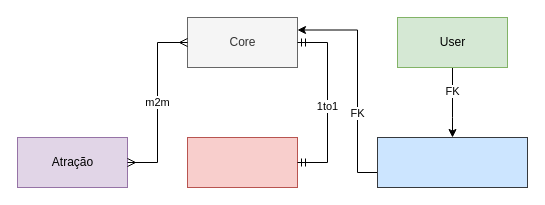
This 545x205 diagram has some shape labels left out. The shapes that lost their labels are listed below. From the top down, each one's centre as x and y in pixels, then its label:
(242,162): Localização
(452,162): Comentarios e Avaliações
